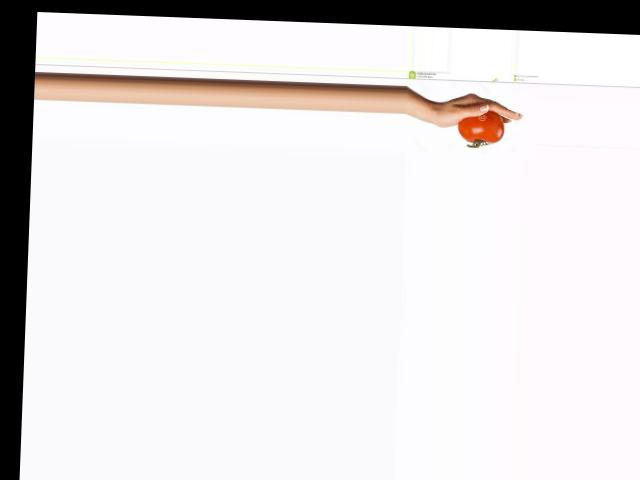tomato: (457, 109, 505, 143)
